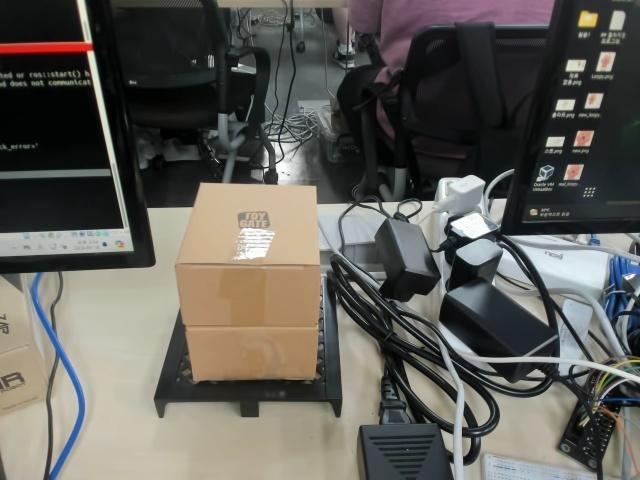box: (153, 182, 347, 419)
